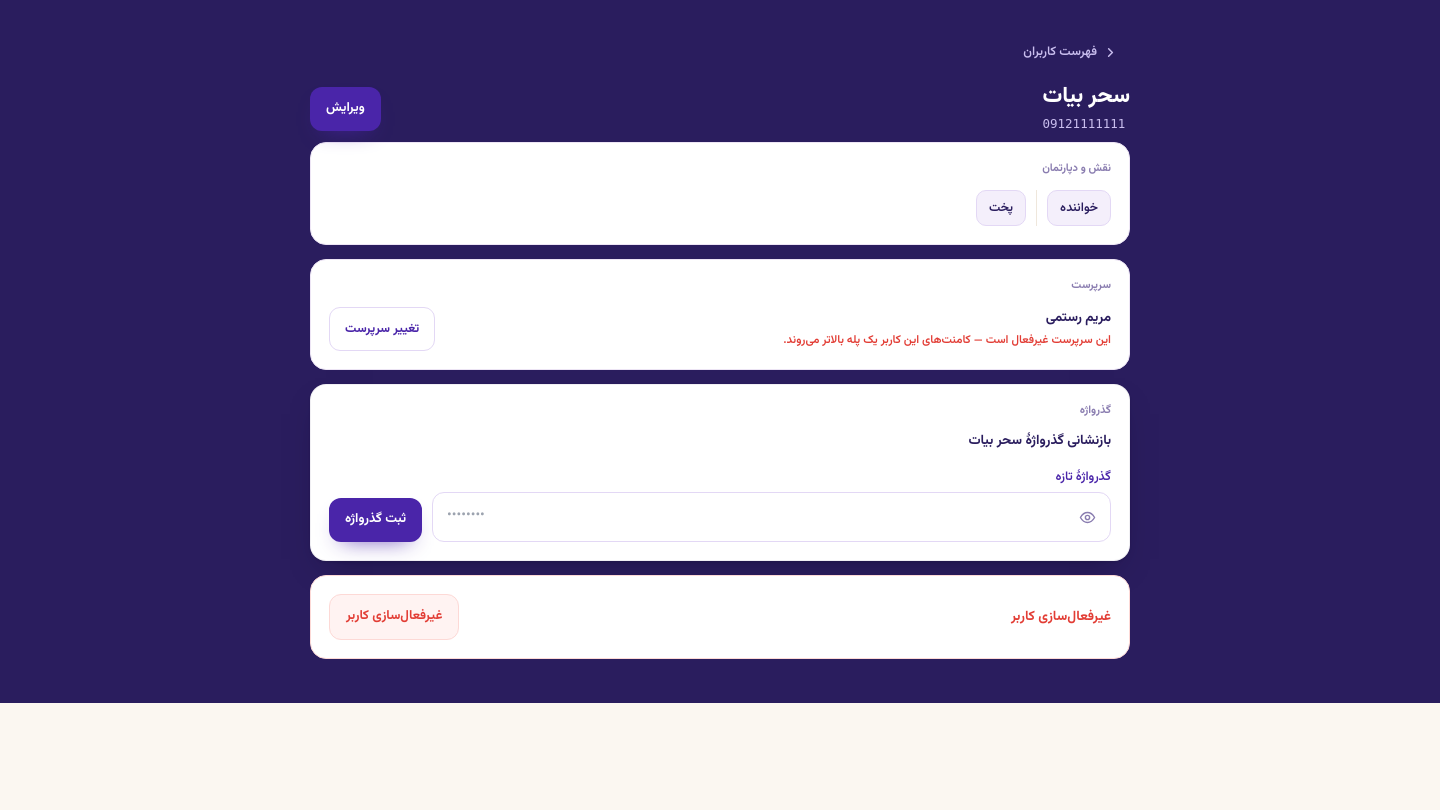
Scenario: the supervisor picker on the edit form › will not send a chosen supervisor the server has stopped offering
Click the button "ویرایش": (345, 109) [310,87,381,131]
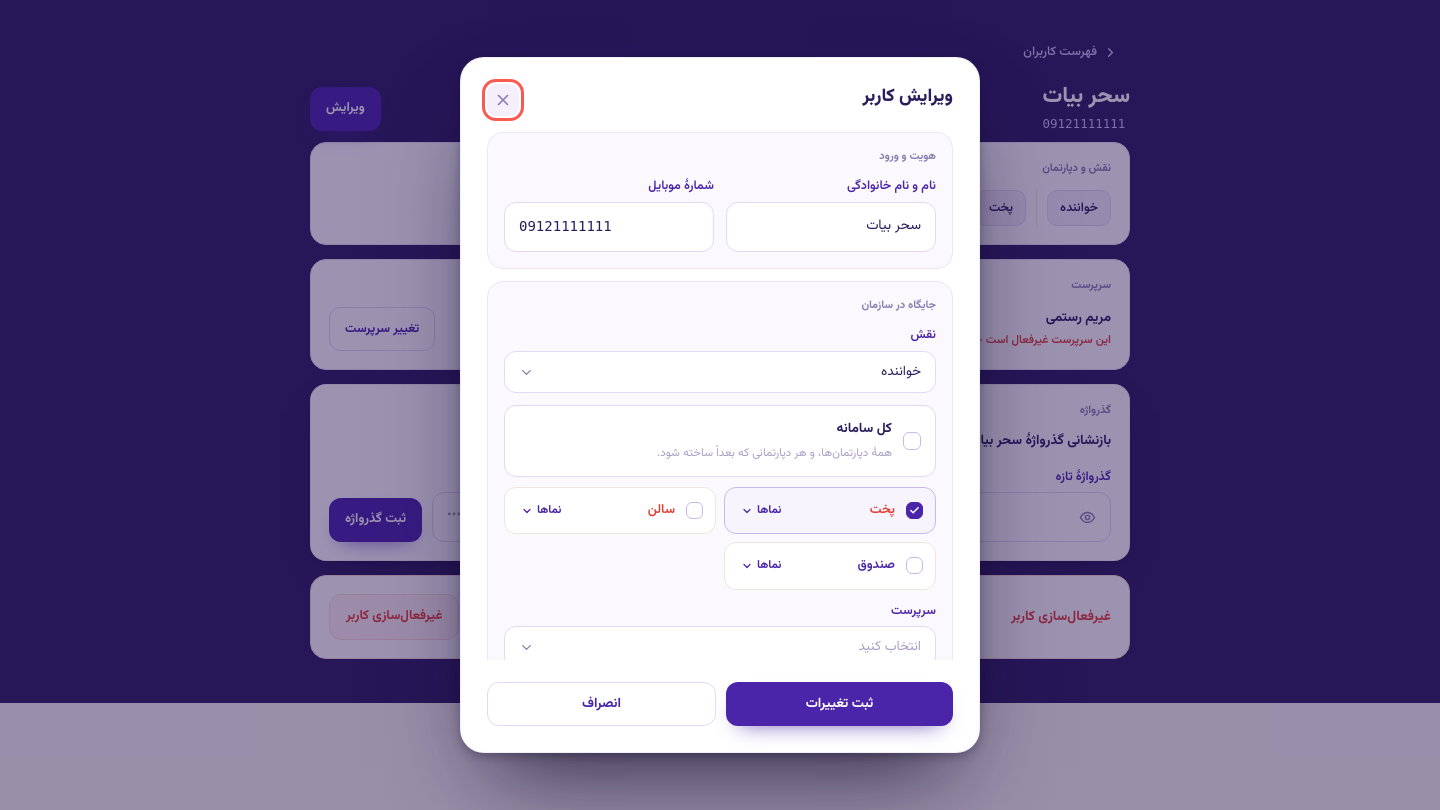
Now the dialog is shown, box [460,57,980,753]
Now the checkbox labelled "سالن" is shown, box [504,487,716,534]
Click the button named "سرپرست": (890, 647) [504,626,936,669]
(page scrolled)
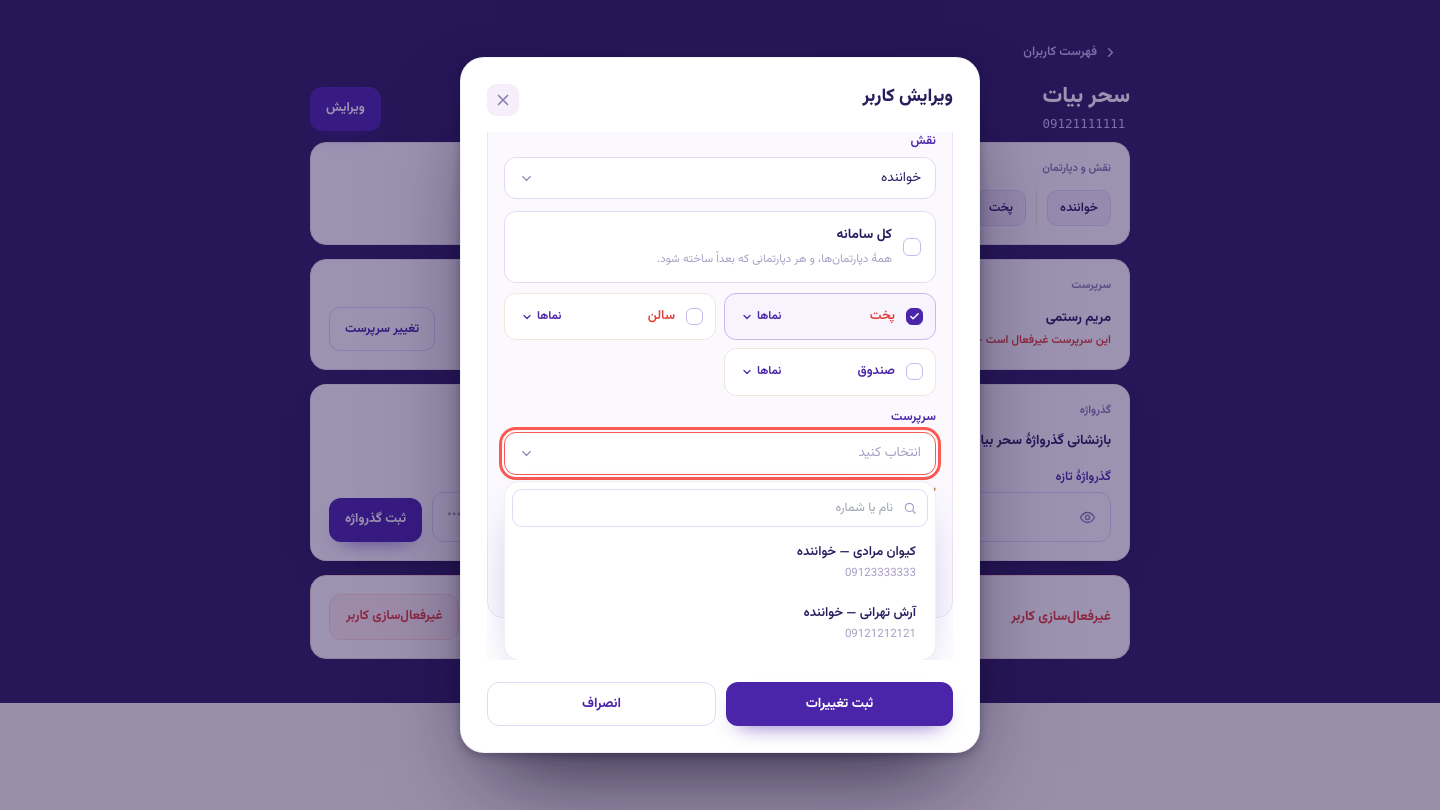
Click the option "آرش تهرانی — خواننده 09121212121": (860, 613) [512,594,928,653]
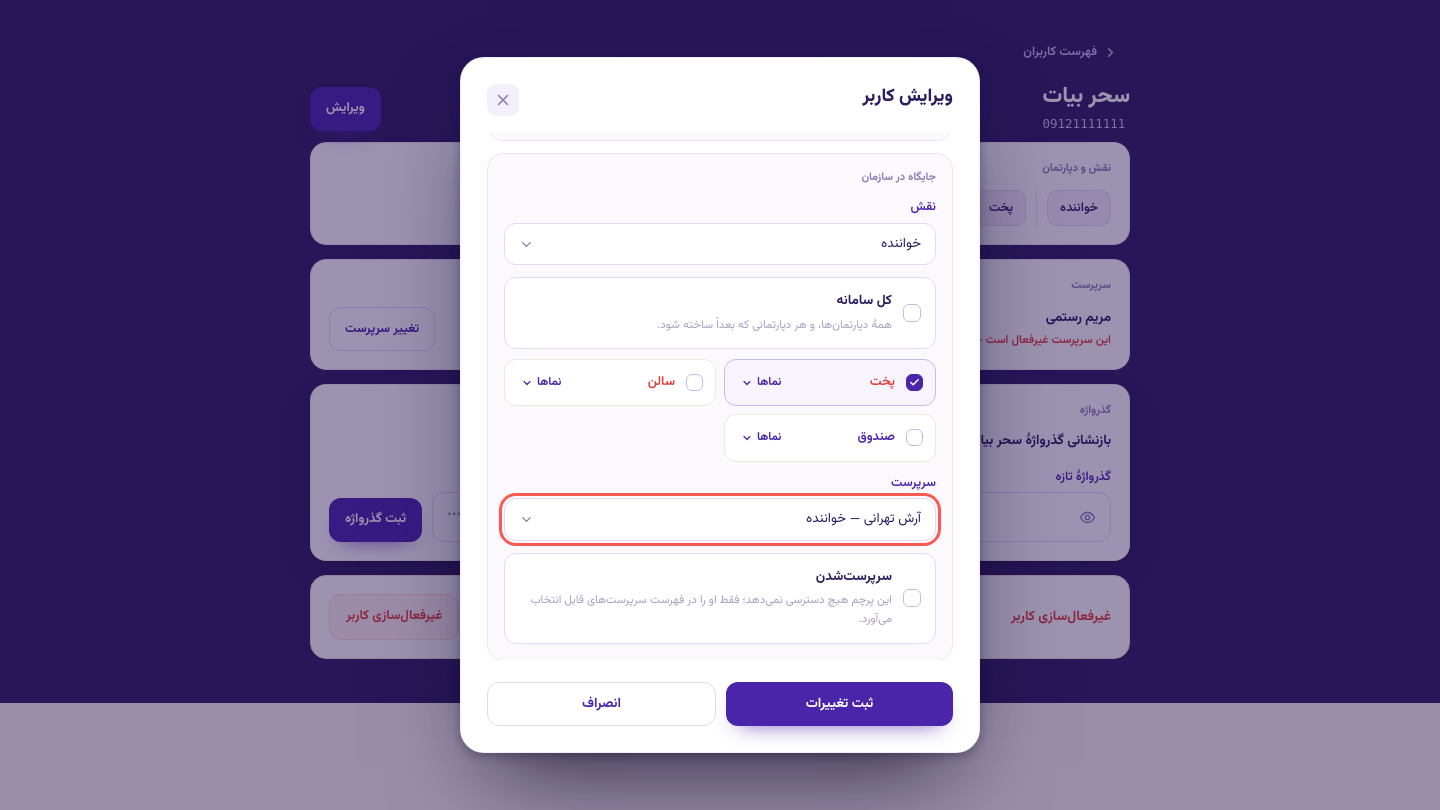
Click the checkbox labelled "صندوق": (830, 438) [724,414,936,462]
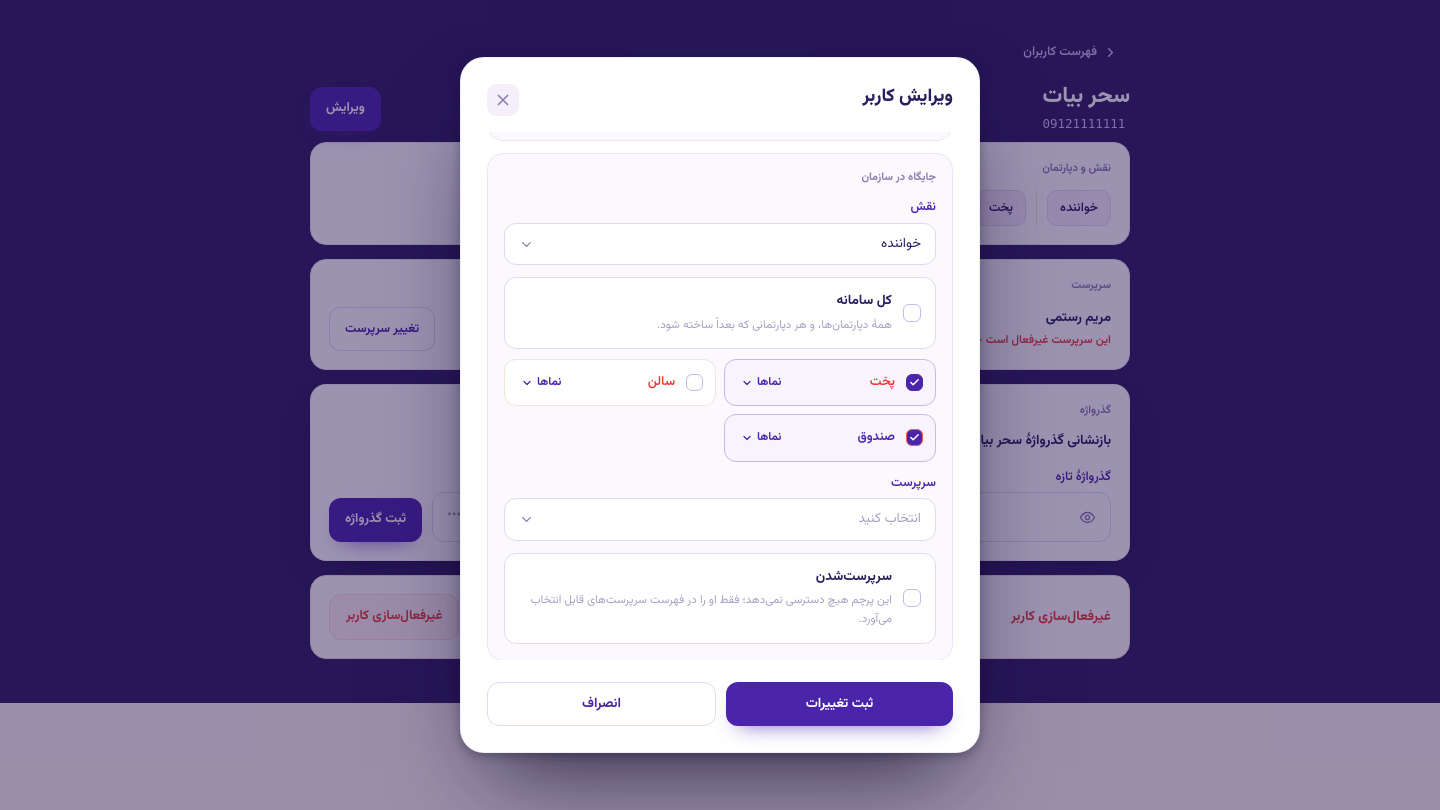
Click the checkbox labelled "صندوق": (830, 438) [724,414,936,462]
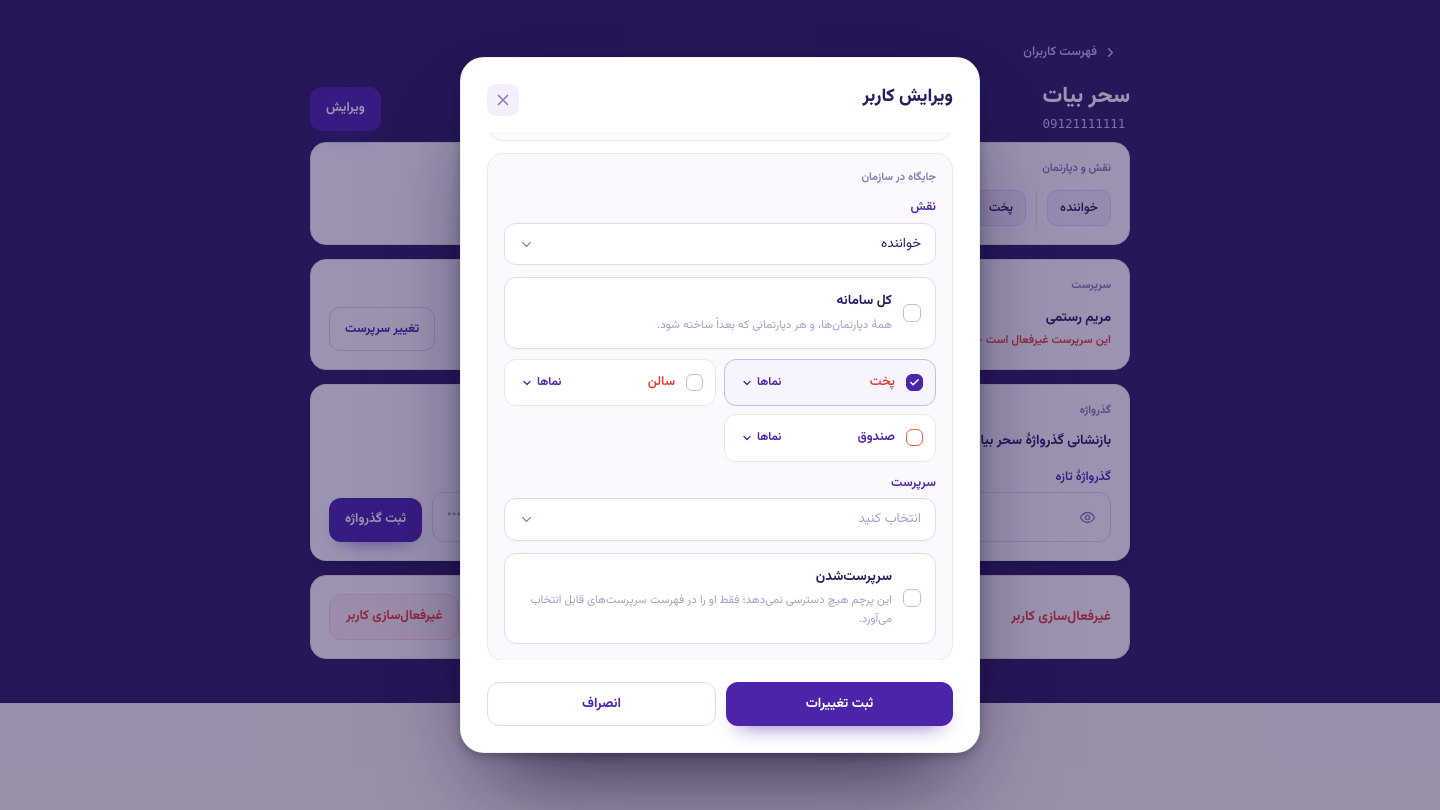
Click the button "ثبت تغییرات": (840, 704) [726,682,953,726]
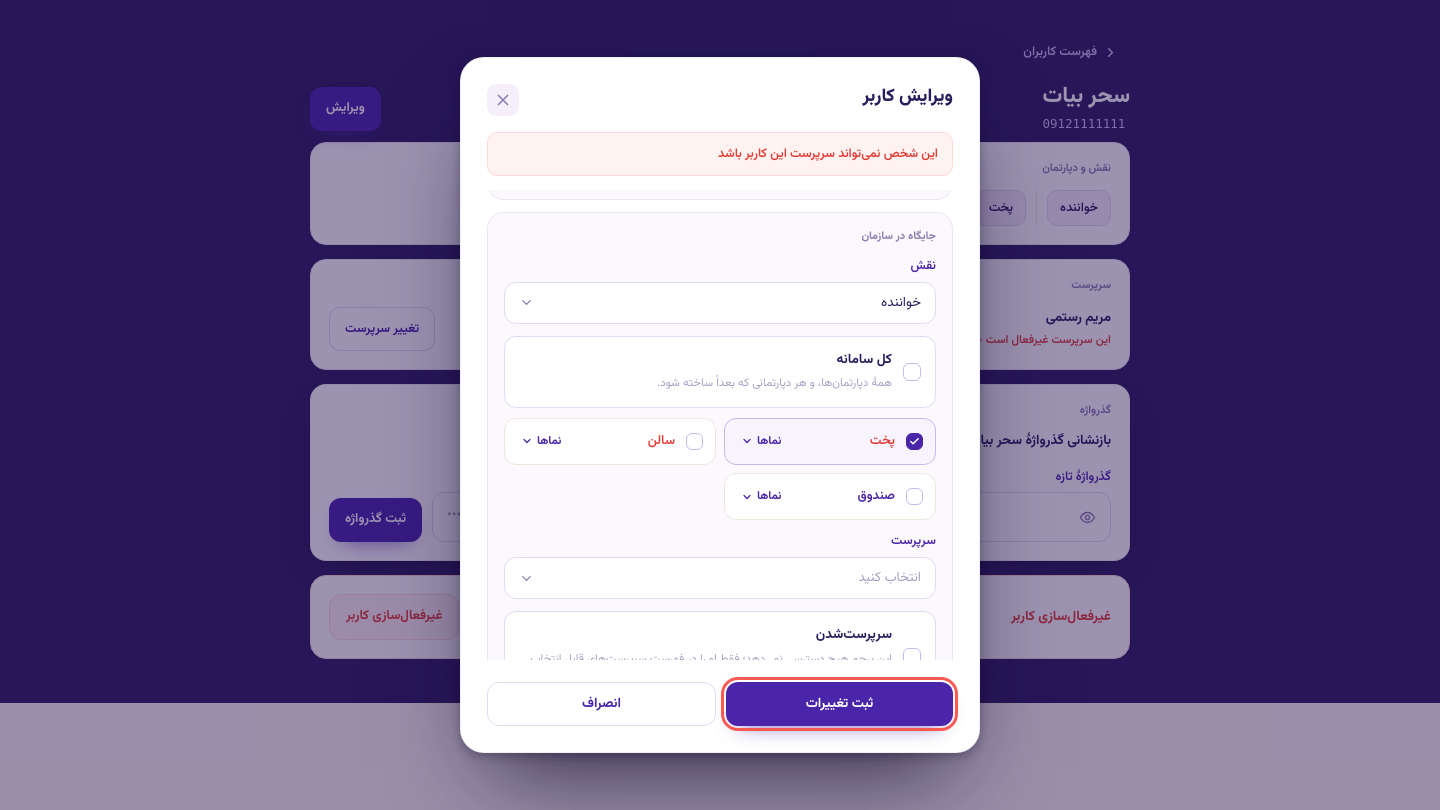
Now the message reads "این شخص نمی‌تواند سرپرست این کاربر باشد", box [718,144,938,164]
